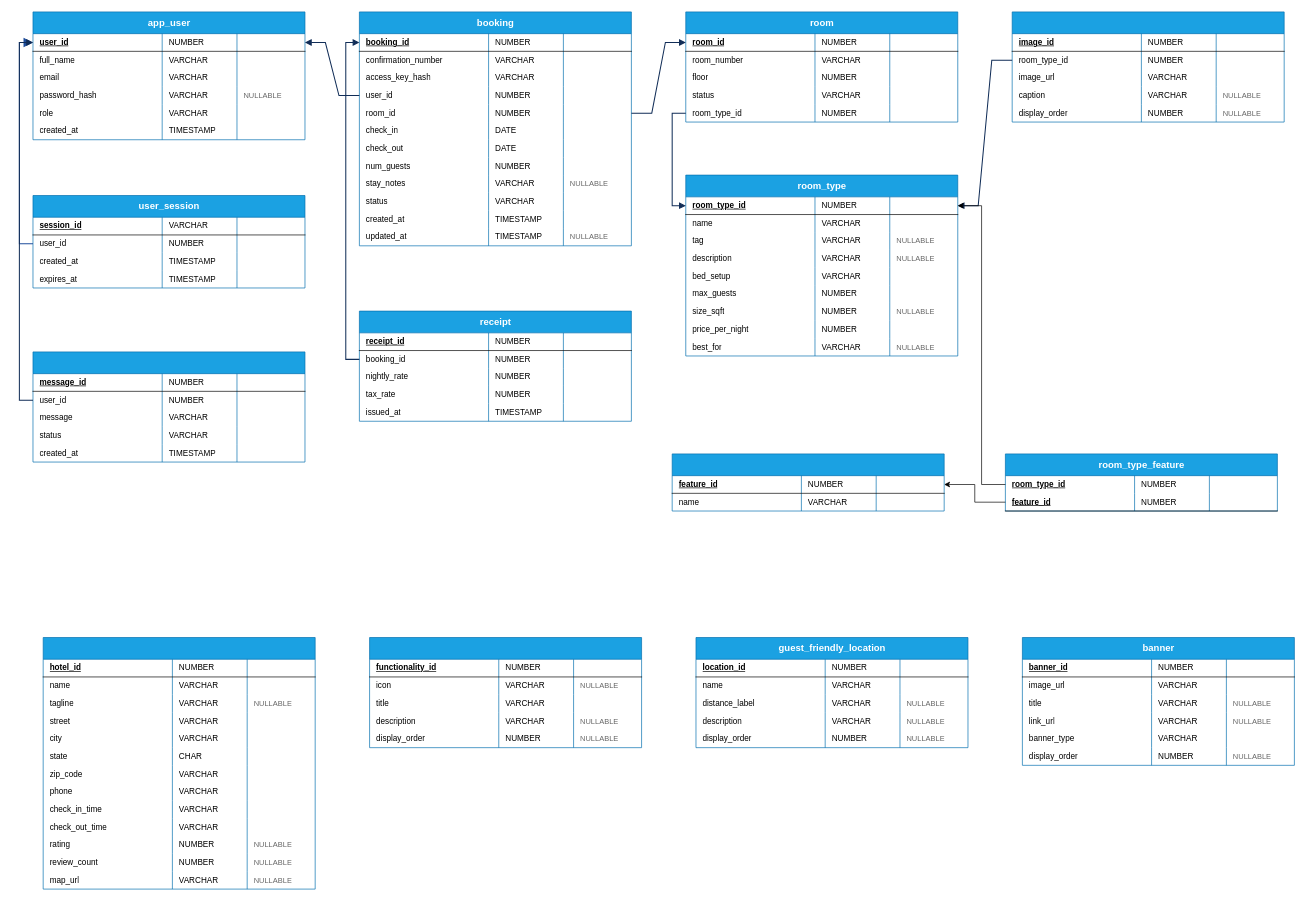
The diagram is 1307 pixels wide and 901 high, and some of its shapes have lost their labels. The shapes that lost their labels are listed below. From the top down, each one's box as (x1, y1, x2, y2) in pixels, then its label:
(1012, 11, 1284, 122): room_type_image
(32, 351, 305, 462): form_message
(672, 453, 944, 511): room_feature
(369, 637, 642, 748): hotel_functionality
(42, 637, 315, 889): hotel_general_info
